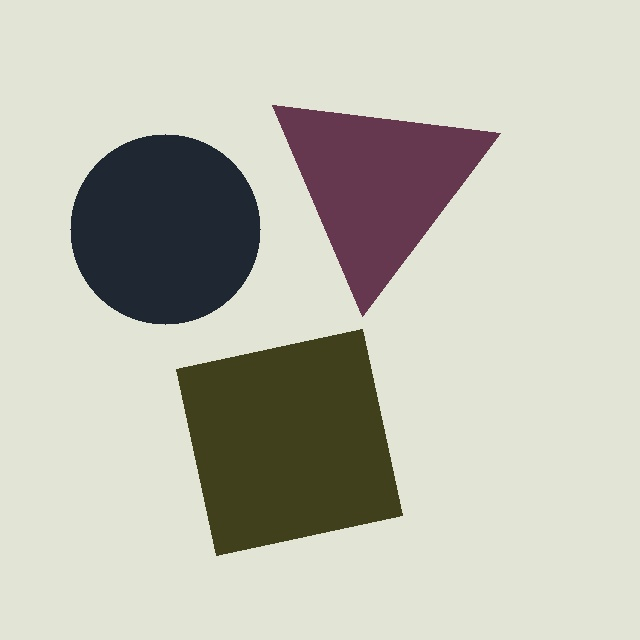circle: (69, 133, 260, 324)
square: (175, 329, 402, 555)
triangle: (272, 104, 500, 316)
